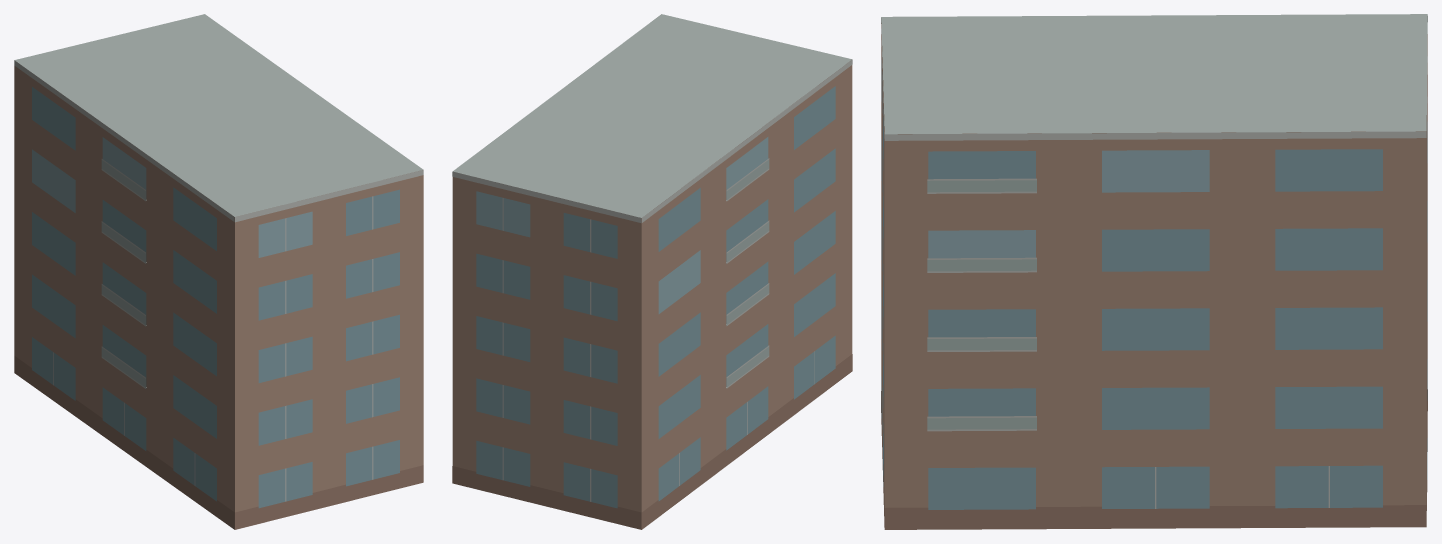
The model's file is survey-upis-32606554.glb.
3 renders of one model, left to right at view 1: azimuth 30°, elevation 25°; view 2: azimuth 150°, elevation 25°; view 3: azimuth 270°, elevation 25°, orthographic. The views are drawn at different scales.
Parts seen in each view (by area): view 1: survey-upis-32606554.tmp; view 2: survey-upis-32606554.tmp; view 3: survey-upis-32606554.tmp.
Boxes of the visible parts, <box> form: survey-upis-32606554.tmp: <box>14,14,423,529</box>; survey-upis-32606554.tmp: <box>452,14,852,529</box>; survey-upis-32606554.tmp: <box>881,14,1427,529</box>.
Size of the model in its own units: 9.41 by 14.4 by 18.03.
